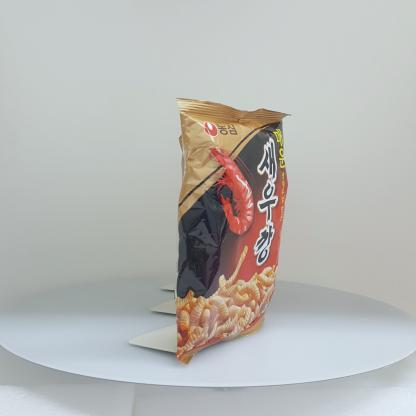Plastic Packaging: (163, 89, 309, 370)
